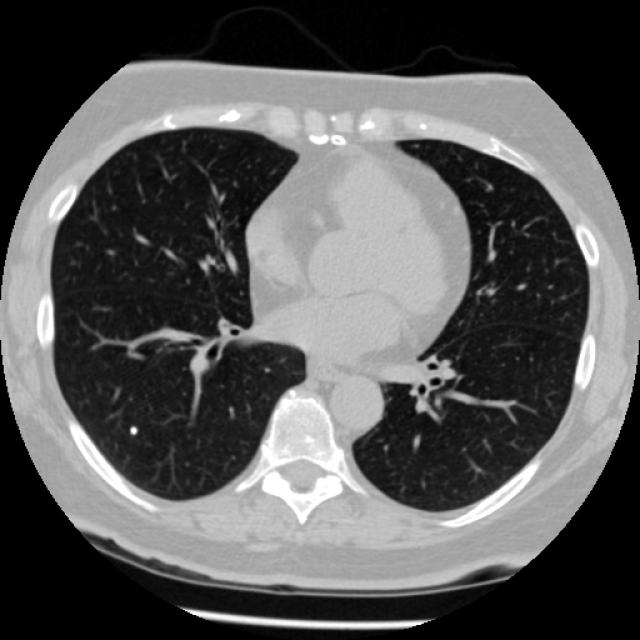nodule: (121, 418, 144, 440)
